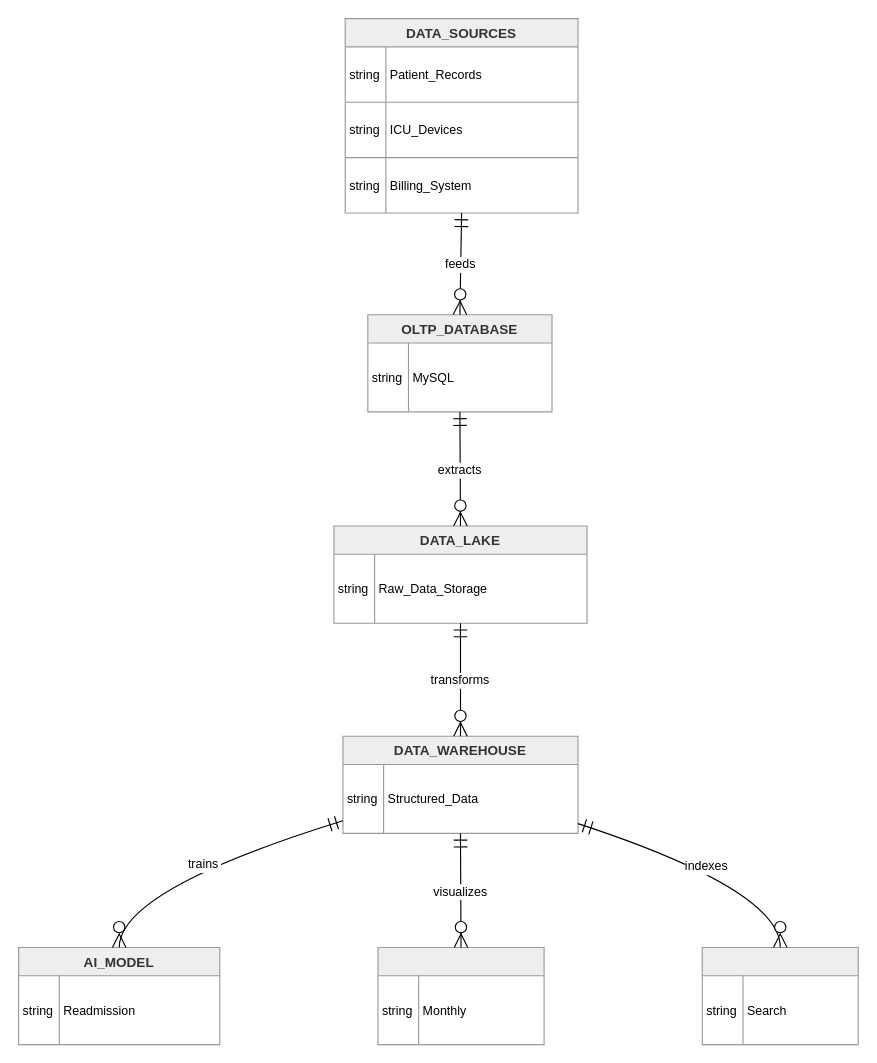
Some shapes in this 877 by 1063 pixel diagram are drawn without their labels. The shapes that lost their labels are listed below. From the top down, each one's box as (x1, y1, x2, y2) in pixels, then its label:
(377, 946, 544, 1045): BI_REPORTS
(701, 946, 858, 1045): VECTOR_DB
